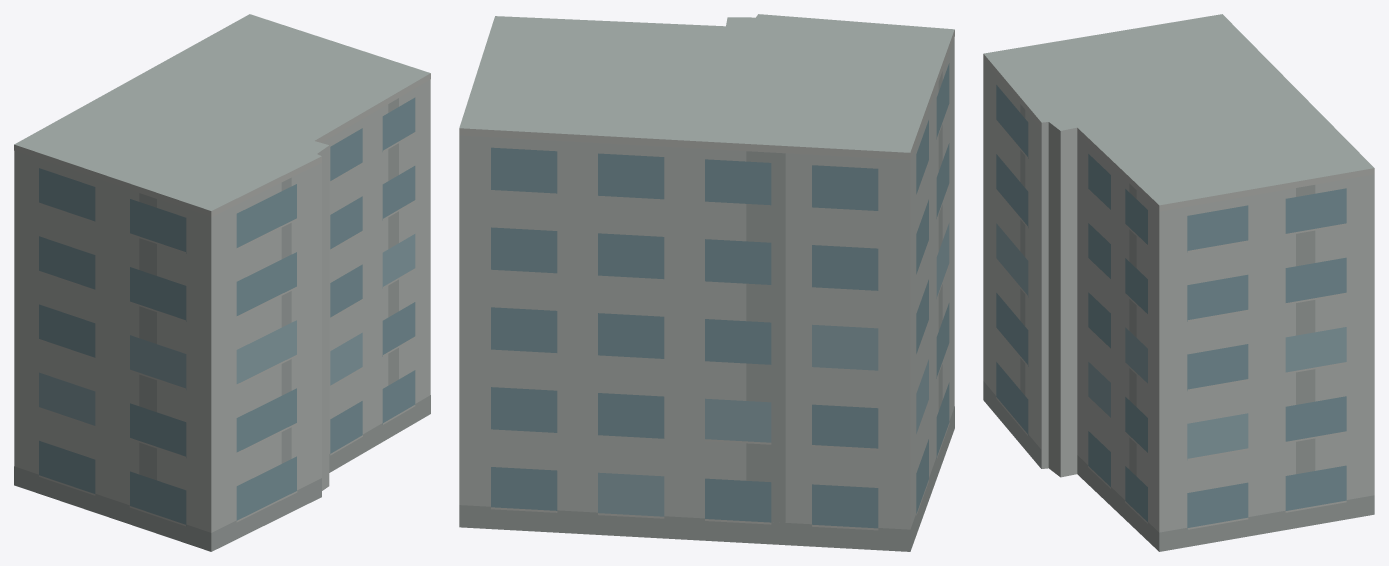
The model's file is survey-upis-32853831.glb.
The picture shows the model from 3 angles, left to right: view 1: azimuth 30°, elevation 25°; view 2: azimuth 150°, elevation 25°; view 3: azimuth 270°, elevation 25°; orthographic projection. The views are drawn at different scales.
Visible parts, largest first — view 1: survey-upis-32853831.tmp; view 2: survey-upis-32853831.tmp; view 3: survey-upis-32853831.tmp.
Part boxes in pixels (x1=…): survey-upis-32853831.tmp: x1=14, y1=14, x2=430, y2=551; survey-upis-32853831.tmp: x1=459, y1=14, x2=954, y2=551; survey-upis-32853831.tmp: x1=983, y1=14, x2=1374, y2=551.
Bounding box in the file's own units: 15.76 × 13.3 × 13.62.
